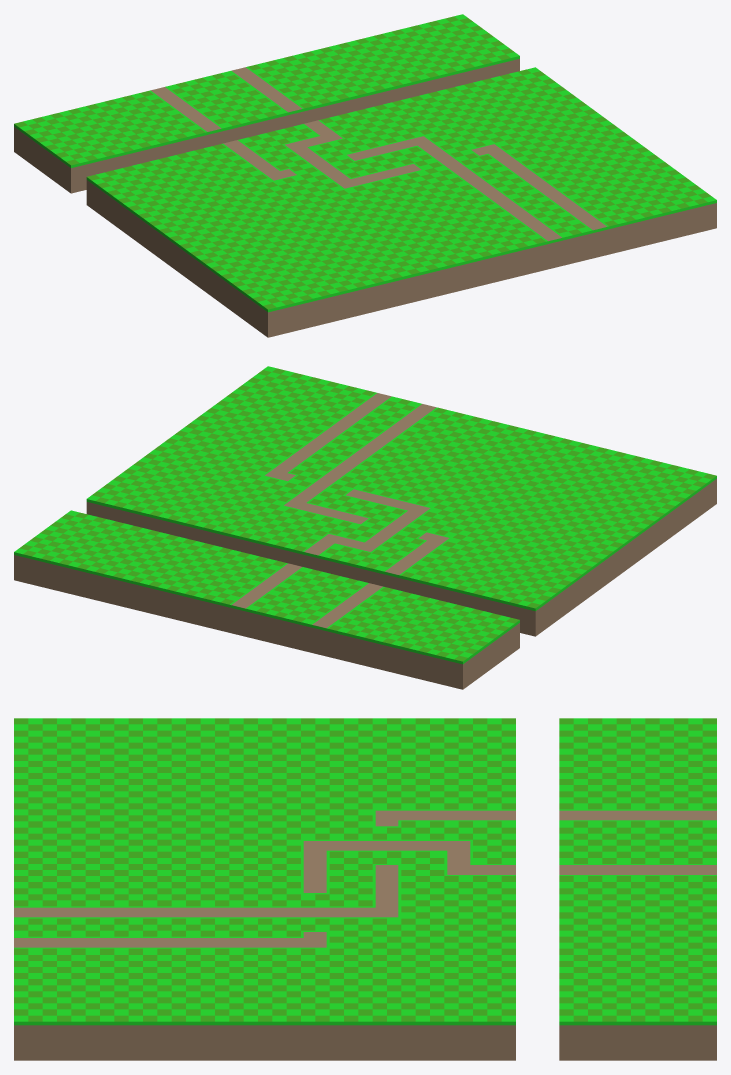
The model's file is Map 07 - 2.fbx.
The picture shows the model from 3 angles, top to bottom: view 1: azimuth 30°, elevation 25°; view 2: azimuth 150°, elevation 25°; view 3: azimuth 270°, elevation 25°; orthographic projection. The views are drawn at different scales.
Visible parts, largest first — view 1: Plane.020; view 2: Plane.020; view 3: Plane.020.
Part boxes in pixels (x1,y1,x2,y2): Plane.020: (14,14,716,337); Plane.020: (14,366,716,689); Plane.020: (14,718,716,1060).
Size of the model in its own units: 500 by 30 by 490.
